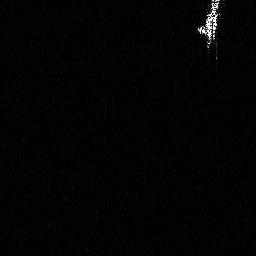ship: (194, 1, 226, 64)
